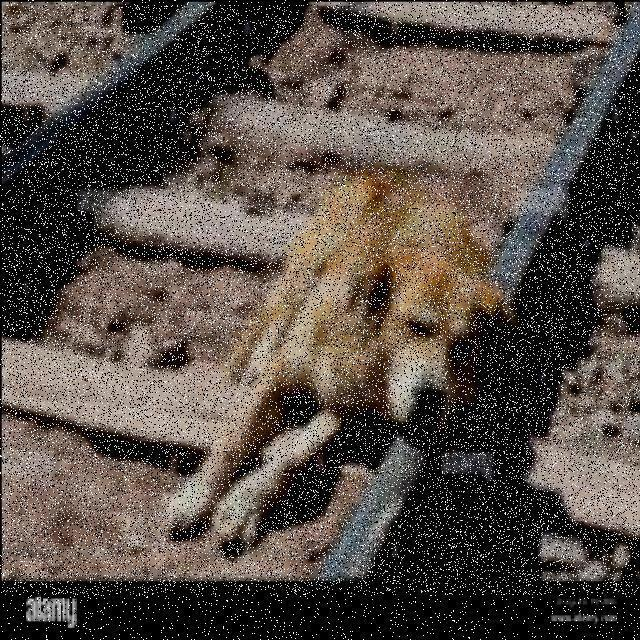rail: (3, 7, 640, 596)
